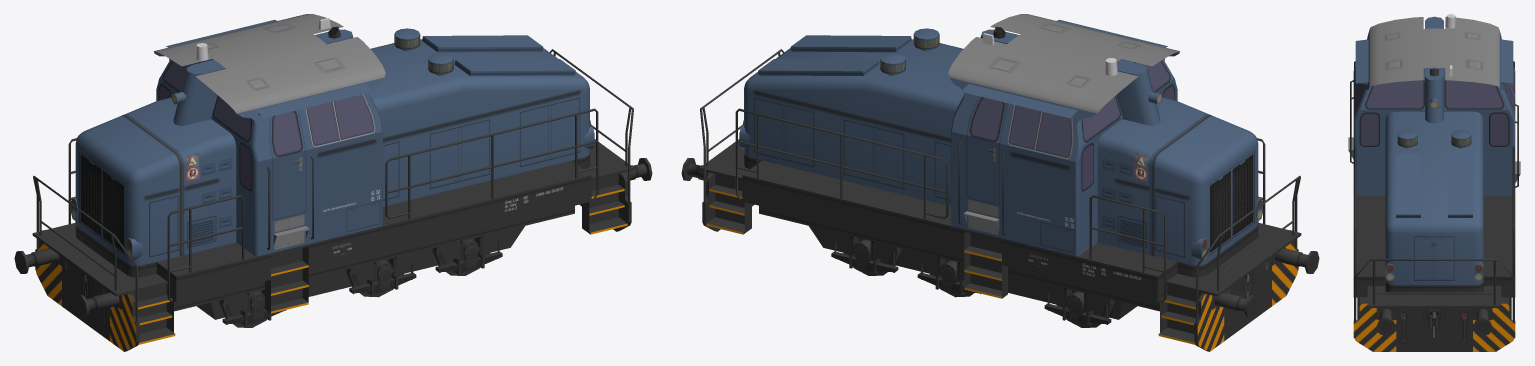
Rendered from DHG500C.glb.
3 renders of one model, left to right at view 1: azimuth 30°, elevation 25°; view 2: azimuth 150°, elevation 25°; view 3: azimuth 270°, elevation 25°, orthographic. The views are drawn at different scales.
Visible parts, largest first — view 1: DHG500; view 2: DHG500; view 3: DHG500.
Boxes of the visible parts, x1,y1,x2,y2 form: DHG500: (14, 14, 652, 351); DHG500: (681, 14, 1319, 351); DHG500: (1348, 14, 1520, 351).
Size of the model in its own units: 9.81 by 4.29 by 3.24.
Materials: 1 (1 with a texture image).
